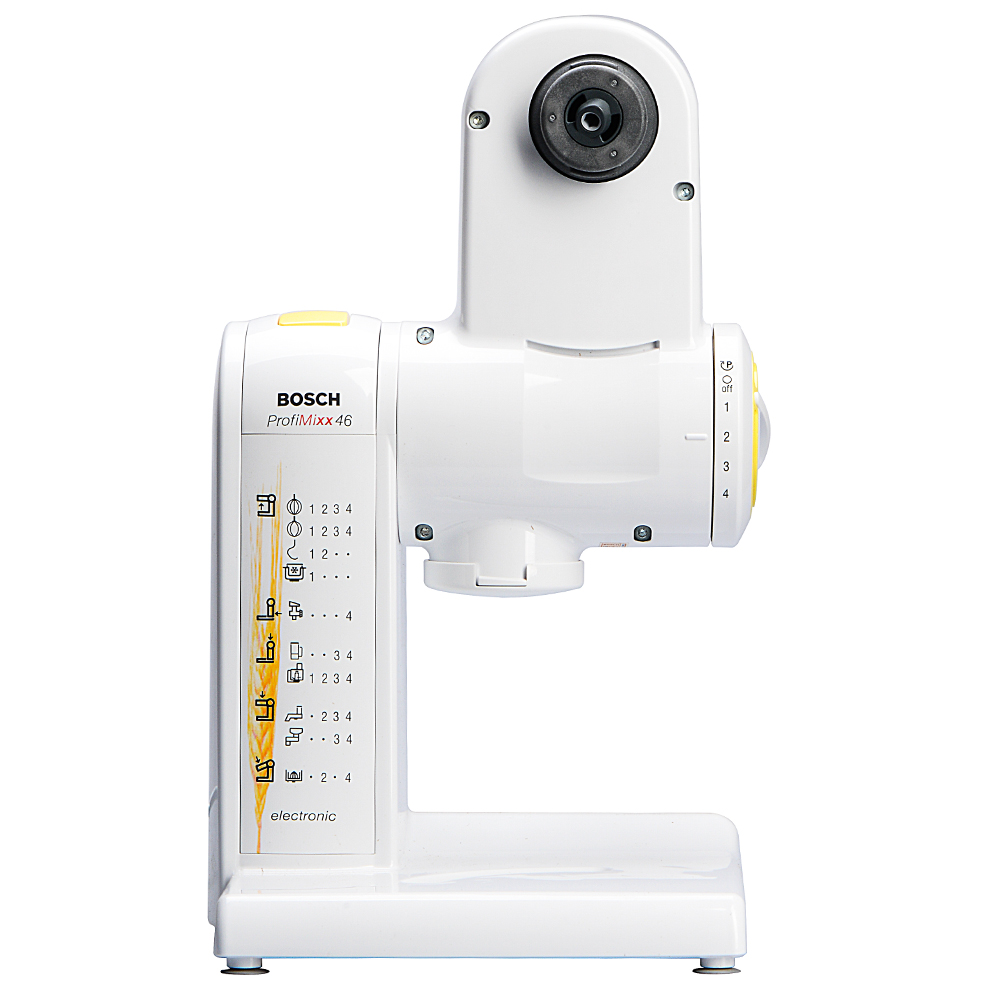Bosch: (273, 388, 344, 409)
